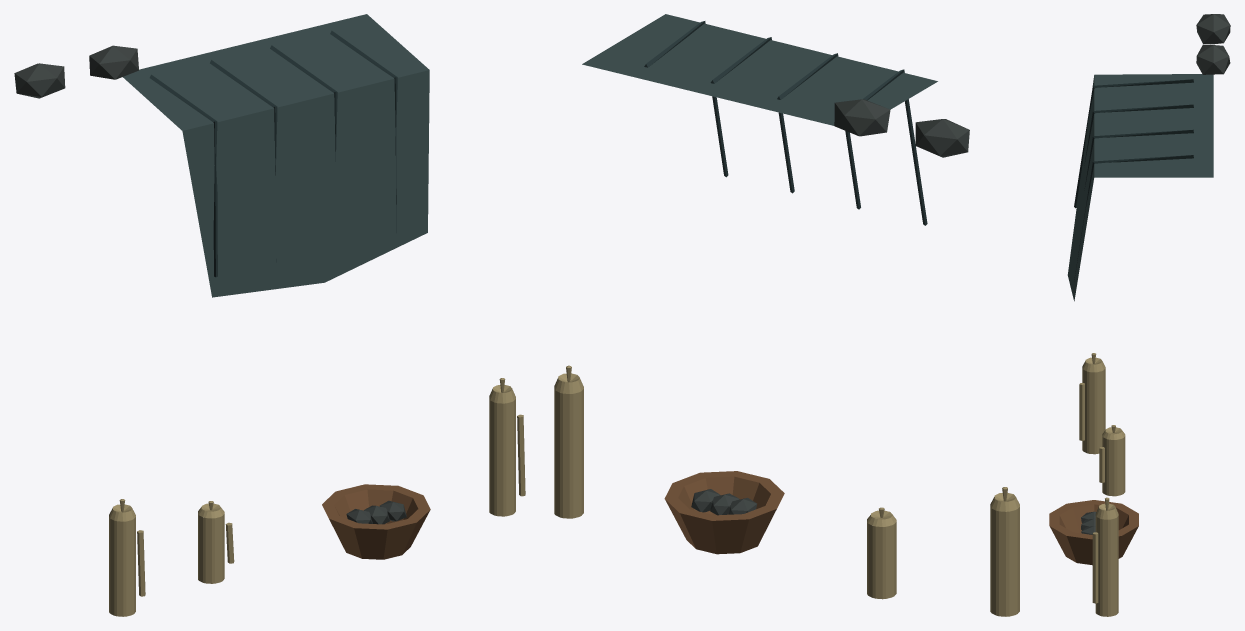
File: offerings-fresh.glb
3 views of the same model, side by side, from view 1: azimuth 30°, elevation 25°; view 2: azimuth 150°, elevation 25°; view 3: azimuth 270°, elevation 25° (orthographic). The views are drawn at different scales.
Parts seen in each view (by area): view 1: Cloth, Gold, Stone; view 2: Cloth, Gold, Stone; view 3: Cloth, Gold, Stone.
Part boxes in pixels (x1,y1,x2,y2): Cloth: (109, 14, 525, 616); Gold: (322, 484, 430, 559); Stone: (14, 45, 406, 524); Cloth: (554, 14, 1019, 616); Gold: (664, 471, 784, 554); Stone: (691, 99, 969, 515); Cloth: (1067, 74, 1213, 616); Gold: (1049, 500, 1138, 565); Stone: (1081, 14, 1230, 534).
Bounding box in the file's own units: 0.6586 × 0.7146 × 0.2729.
